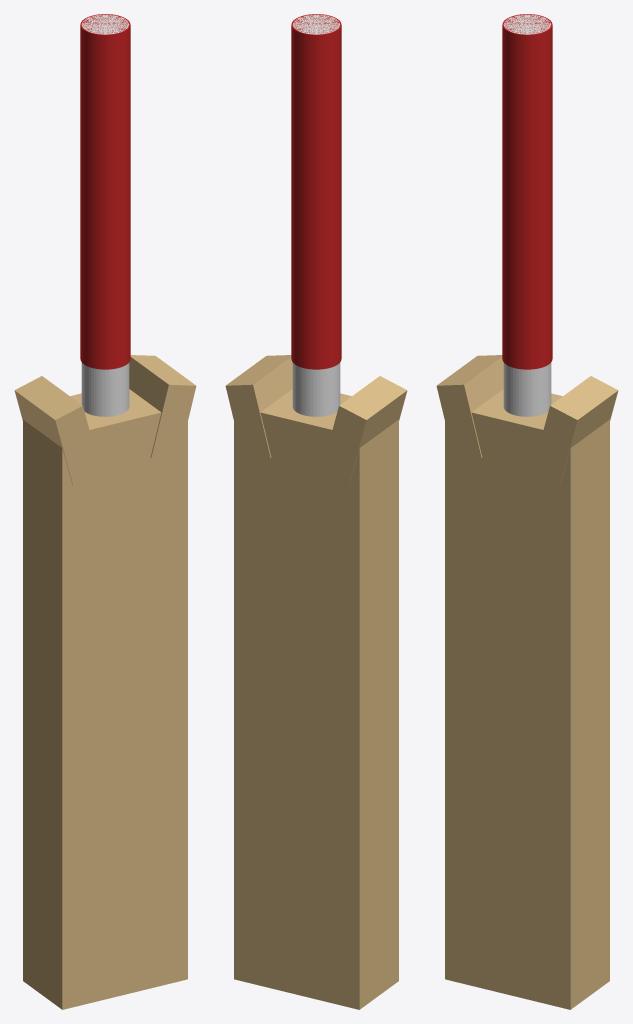
Rendered from ai_parts_b25fd3.glb.
3 views of the same model, side by side, from view 1: azimuth 30°, elevation 25°; view 2: azimuth 150°, elevation 25°; view 3: azimuth 330°, elevation 25° (orthographic).
Parts seen in each view (by area): view 1: 00_blade, 02_grip, 03_shoulder_left, 04_shoulder_right, 01_handle; view 2: 00_blade, 02_grip, 03_shoulder_left, 04_shoulder_right, 01_handle; view 3: 00_blade, 02_grip, 04_shoulder_right, 03_shoulder_left, 01_handle.
Boxes of the visible parts, box(x1,y1,x2,y2) form: 00_blade: box(23, 389, 187, 1009); 02_grip: box(80, 14, 130, 369); 03_shoulder_left: box(14, 376, 100, 484); 04_shoulder_right: box(129, 355, 196, 459); 01_handle: box(81, 14, 129, 416); 00_blade: box(234, 389, 398, 1009); 02_grip: box(291, 14, 341, 369); 03_shoulder_left: box(321, 376, 407, 484); 04_shoulder_right: box(225, 355, 292, 459); 01_handle: box(292, 14, 340, 416); 00_blade: box(445, 389, 609, 1009); 02_grip: box(502, 14, 552, 369); 04_shoulder_right: box(532, 376, 618, 484); 03_shoulder_left: box(436, 355, 503, 459); 01_handle: box(503, 14, 551, 416).
Size of the model in its own units: 12.37 by 80 by 6.2.
